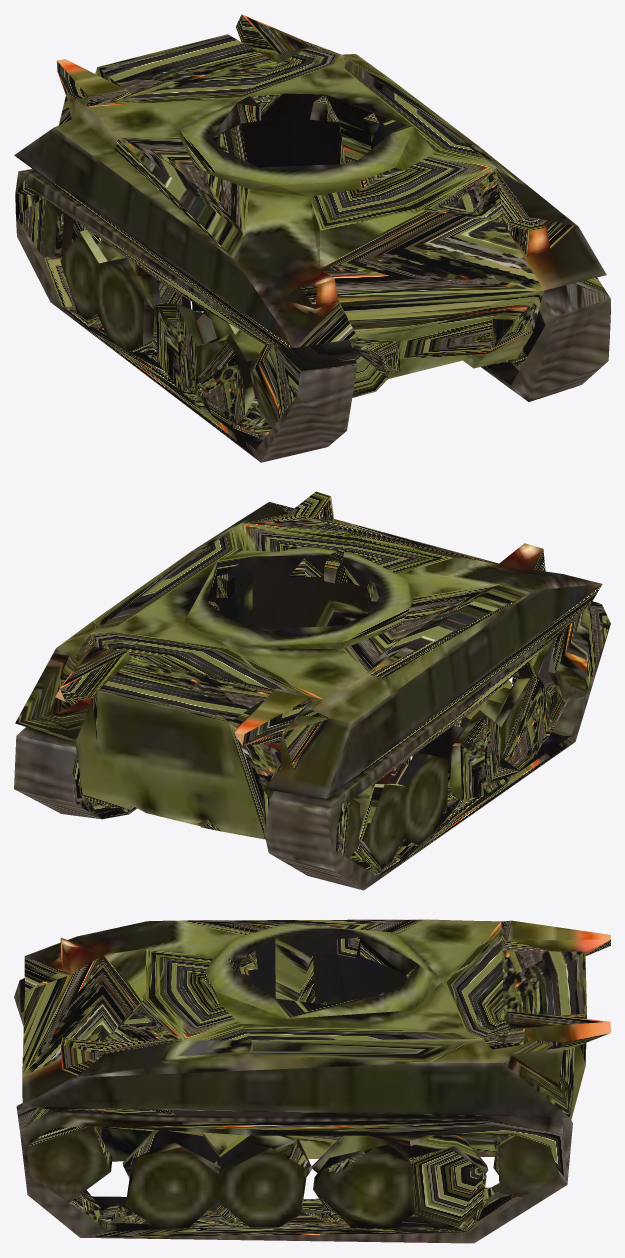
File: hull-s1.glb
3 views of the same model, one above another, from view 1: azimuth 30°, elevation 25°; view 2: azimuth 150°, elevation 25°; view 3: azimuth 270°, elevation 25° (orthographic). The views are drawn at different scales.
Visible parts, largest first — view 1: 9ea61622-a94c-4b6b-8ea4-258bbf757e43_texturing.obj; view 2: 9ea61622-a94c-4b6b-8ea4-258bbf757e43_texturing.obj; view 3: 9ea61622-a94c-4b6b-8ea4-258bbf757e43_texturing.obj.
Boxes of the visible parts, x1,y1,x2,y2 form: 9ea61622-a94c-4b6b-8ea4-258bbf757e43_texturing.obj: [14, 14, 610, 462]; 9ea61622-a94c-4b6b-8ea4-258bbf757e43_texturing.obj: [14, 491, 610, 890]; 9ea61622-a94c-4b6b-8ea4-258bbf757e43_texturing.obj: [14, 919, 610, 1243].
Bounding box in the file's own units: 1.2 × 0.7665 × 1.97.
1 material, 1 textured.
